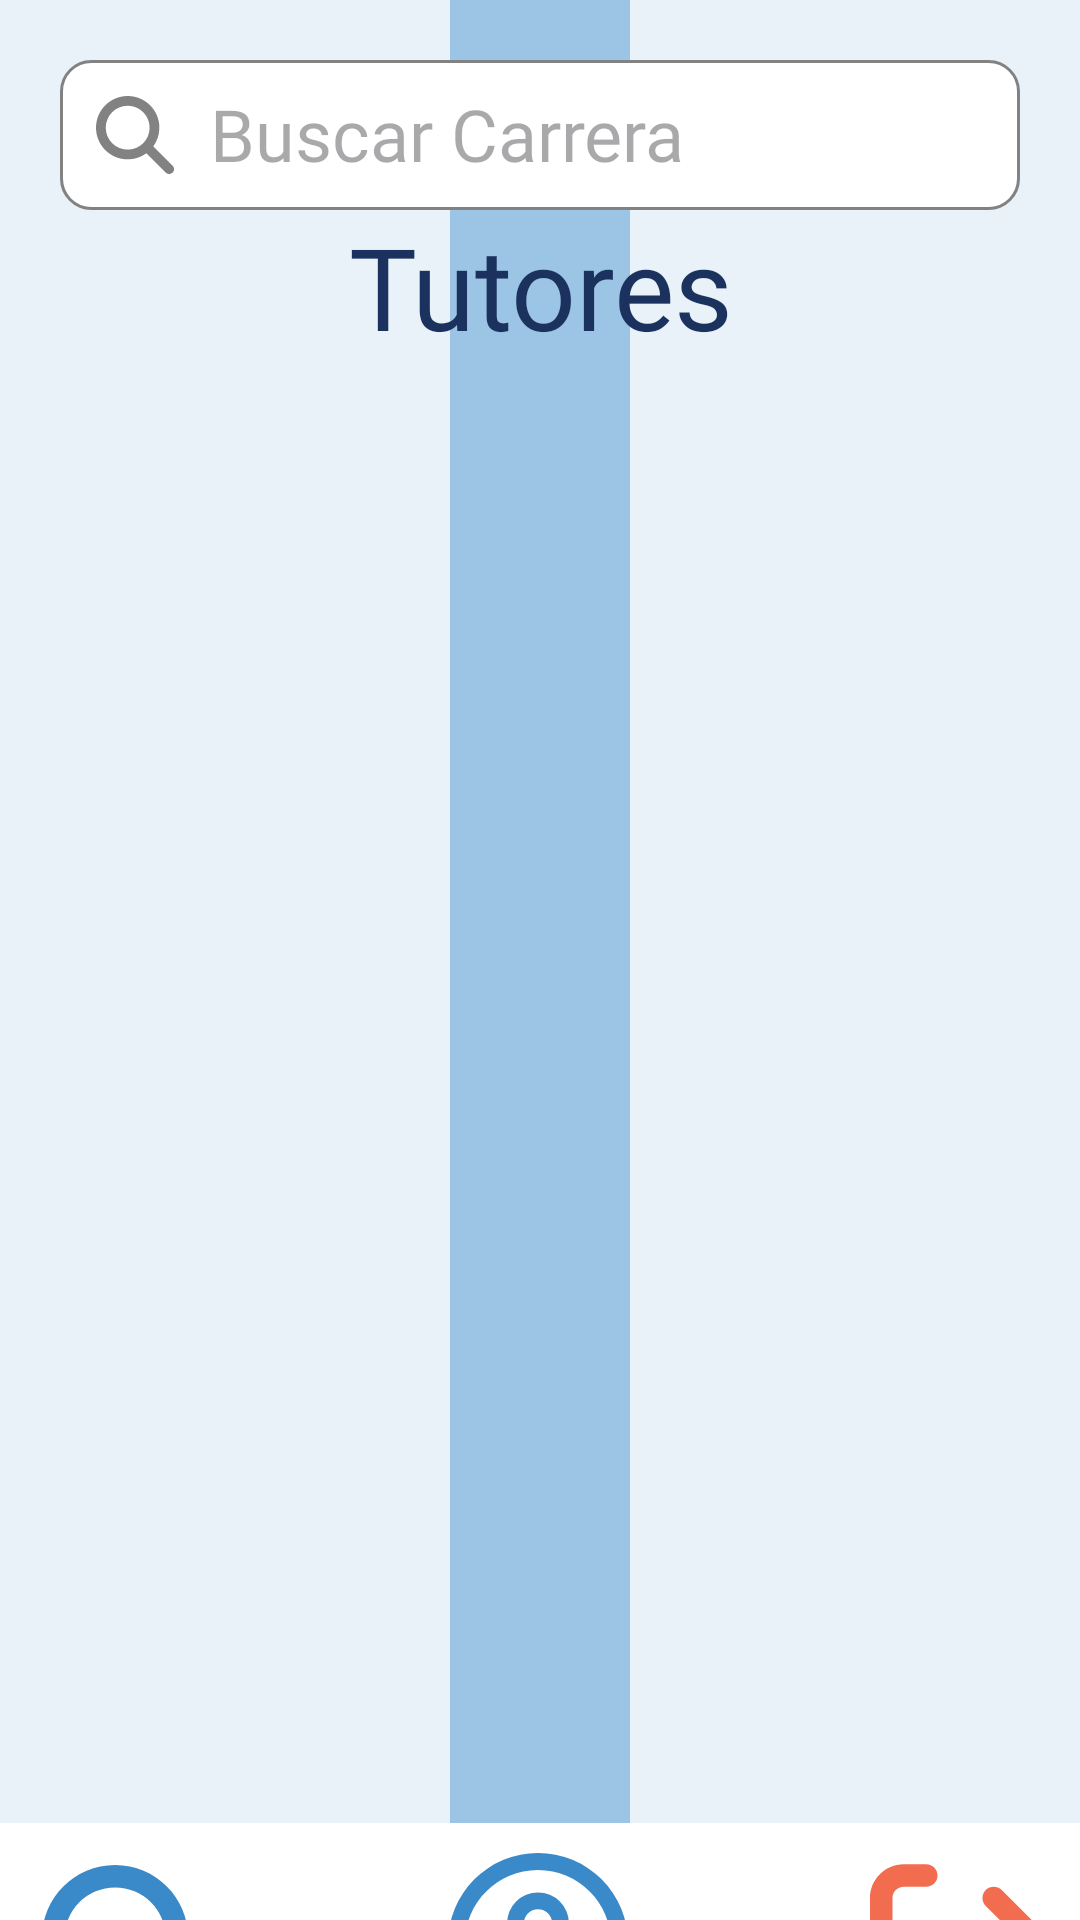

Screen size 1080px x 1920px. Icon name, then its center in pixels as point (x, y):
boton de buscar barra de lista: point (135, 135)
